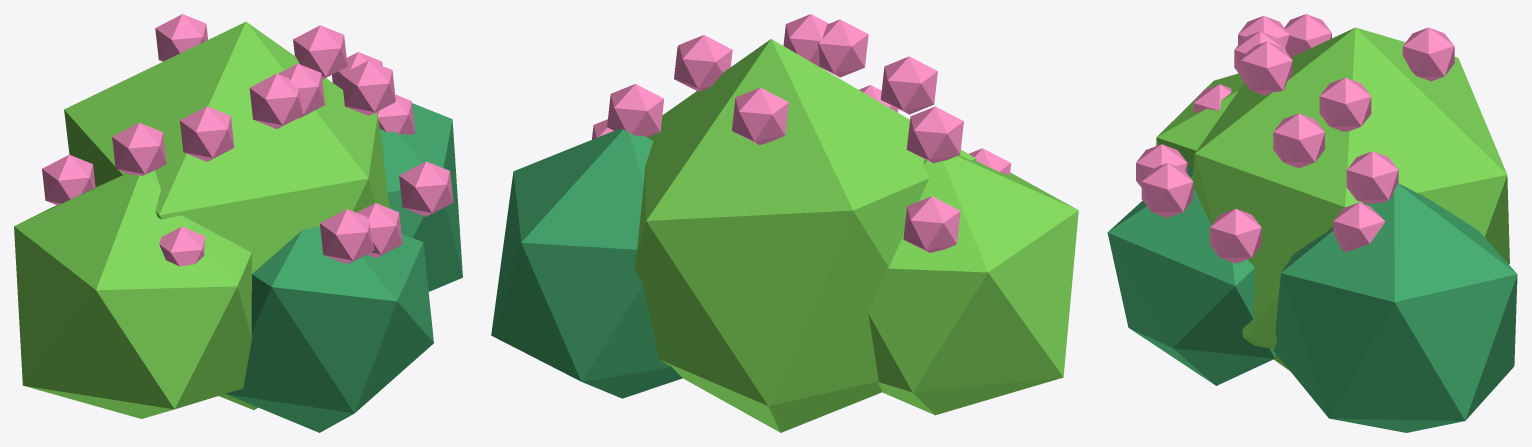
File: bush_pink.glb
3 views of the same model, side by side, from view 1: azimuth 30°, elevation 25°; view 2: azimuth 150°, elevation 25°; view 3: azimuth 270°, elevation 25° (orthographic). The views are drawn at different scales.
Visible parts, largest first — view 1: bush_pink; view 2: bush_pink; view 3: bush_pink.
Part boxes in pixels (left/top/right/bottom): bush_pink: left=14, top=14, right=462, bottom=432; bush_pink: left=491, top=14, right=1078, bottom=432; bush_pink: left=1107, top=14, right=1517, bottom=432.
Size of the model in its own units: 1.97 by 1.51 by 1.48.
